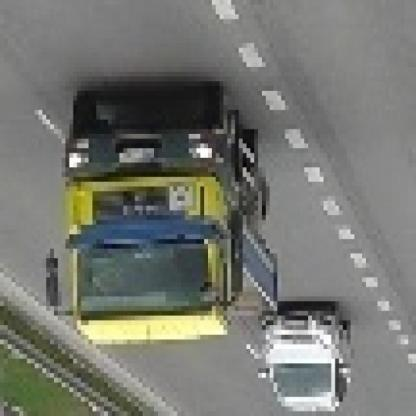truck: (40, 92, 279, 350)
